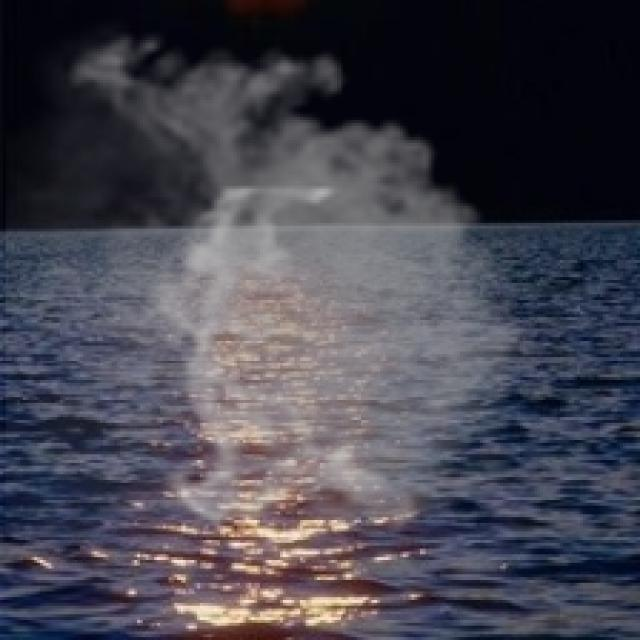Smoke: (5, 17, 558, 537)
